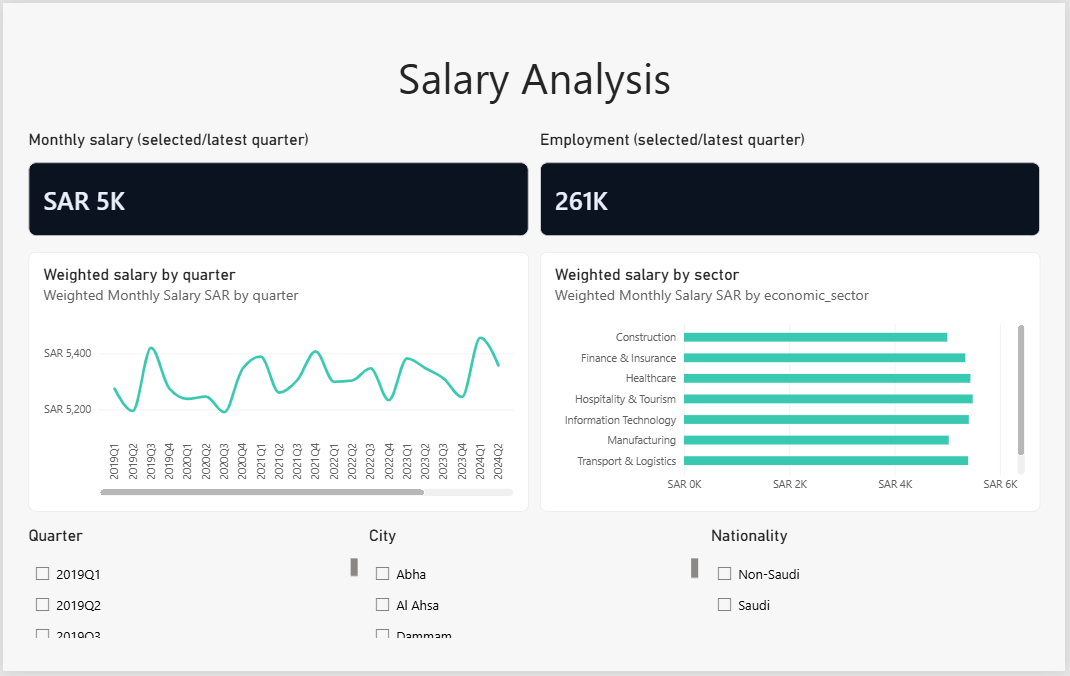

The page's visual inventory and layout, read from the dashboard file:
{"tool":"powerbi","page":{"name":"Salary Analysis","canvas":[1200,720],"ordinal":2},"visuals":[{"type":"slicer","title":"Quarter","fields":{"Values":["Labor.quarter"]},"box":[28,557,372,125],"z":0},{"type":"slicer","title":"Nationality","fields":{"Values":["Labor.nationality_group"]},"box":[800,557,372,125],"z":1000},{"type":"slicer","title":"City","fields":{"Values":["Labor.city"]},"box":[414,557,372,125],"z":2000},{"type":"clusteredBarChart","title":"Weighted salary by sector","fields":{"Category":["Labor.economic_sector"],"Y":["Labor.Weighted Monthly Salary SAR"]},"box":[607,247,565,293],"z":3000},{"type":"cardVisual","title":"Monthly salary (selected/latest quarter)","fields":{"Data":["Labor.Latest Quarter Weighted Salary"]},"box":[28,111,565,119],"z":4000},{"type":"cardVisual","title":"Employment (selected/latest quarter)","fields":{"Data":["Labor.Latest Quarter Employment"]},"box":[607,111,565,119],"z":5000},{"type":"textbox","box":[28,17,1144,79],"z":6000},{"type":"lineChart","title":"Weighted salary by quarter","fields":{"Category":["Labor.quarter"],"Y":["Labor.Weighted Monthly Salary SAR"]},"box":[28,247,565,293],"z":7000}]}

Visuals, with their boxes on the page's 1200x720 design canvas (x1, y1, x2, y2). These are canvas units, not pixel positions in the 1070x676 screenshot, which may show the page scaled, cropped or inside an application window:
"Quarter" slicer: locate(28, 557, 400, 682)
"Nationality" slicer: locate(800, 557, 1172, 682)
"City" slicer: locate(414, 557, 786, 682)
"Weighted salary by sector" clusteredBarChart: locate(607, 247, 1172, 540)
"Monthly salary (selected/latest quarter)" cardVisual: locate(28, 111, 593, 230)
"Employment (selected/latest quarter)" cardVisual: locate(607, 111, 1172, 230)
textbox: locate(28, 17, 1172, 96)
"Weighted salary by quarter" lineChart: locate(28, 247, 593, 540)
